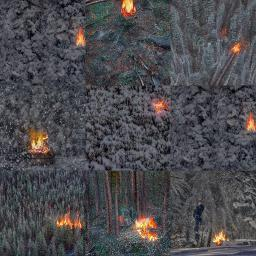Small fire: (215, 21, 247, 60), (132, 212, 159, 243), (53, 208, 87, 232), (30, 128, 55, 154), (208, 227, 238, 247), (71, 27, 92, 53), (147, 96, 172, 115), (118, 0, 141, 20), (240, 112, 256, 135)
